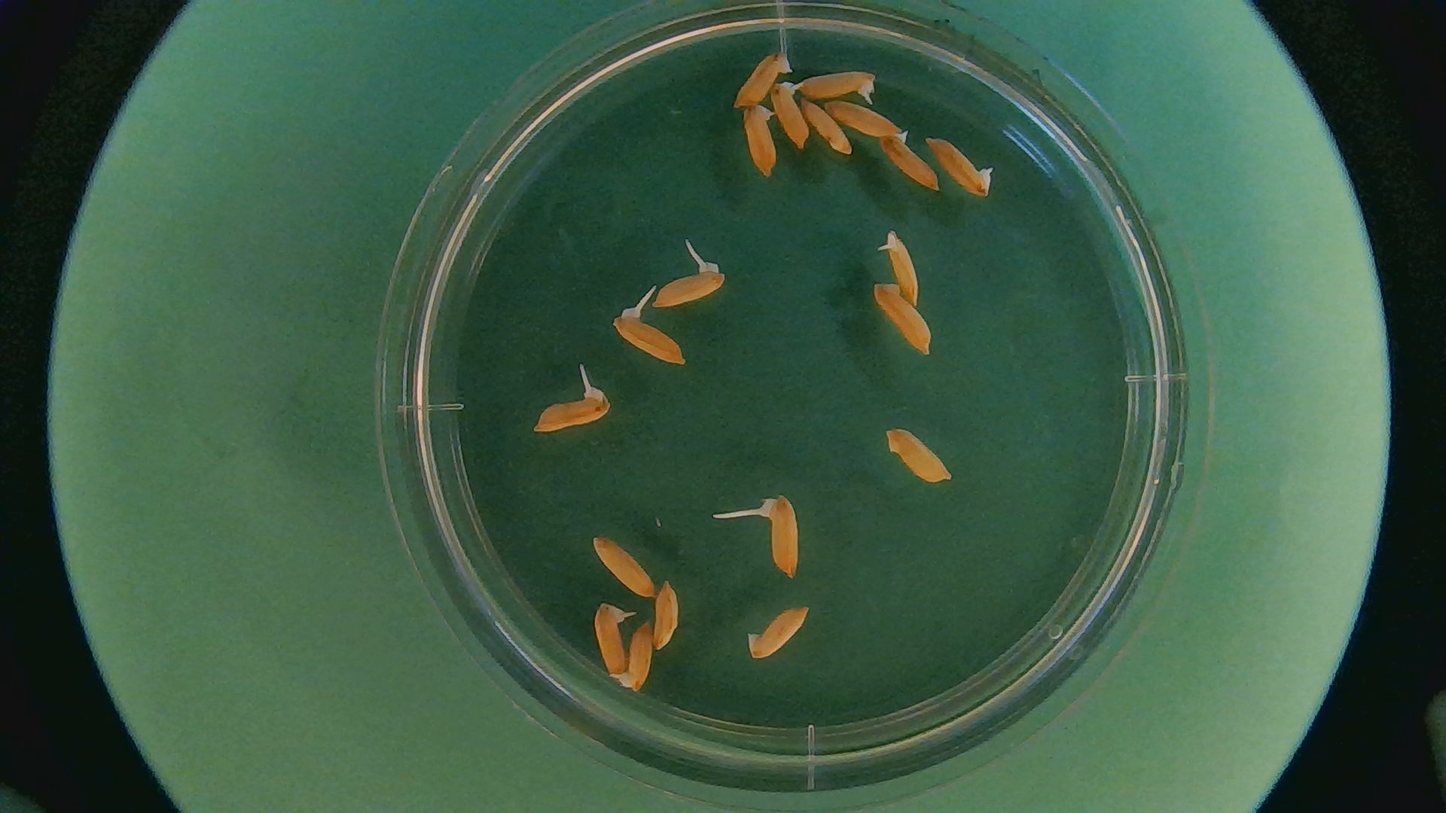no: (866, 281, 941, 358), (587, 536, 657, 601), (746, 602, 812, 663), (877, 130, 940, 193), (728, 47, 794, 106), (929, 139, 993, 199), (884, 428, 950, 486), (737, 96, 781, 176), (798, 96, 854, 157), (651, 582, 681, 653)
yes: (614, 306, 689, 370), (792, 61, 883, 108), (529, 386, 612, 437), (876, 230, 923, 306), (767, 77, 815, 150), (759, 499, 800, 578), (652, 263, 725, 306), (590, 601, 628, 679), (617, 617, 654, 696)
